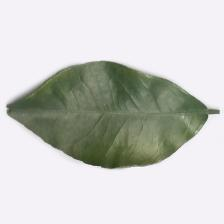healthy: (7, 59, 210, 170)
